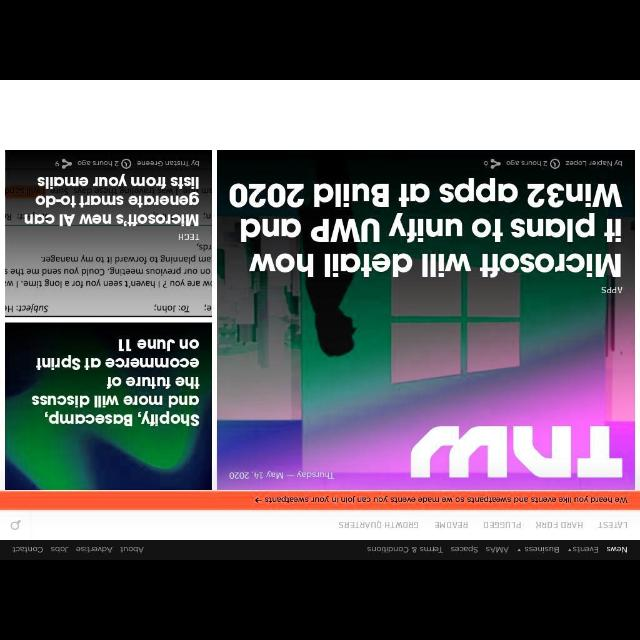button: (3, 512, 31, 538)
icon: (8, 520, 22, 532), (254, 496, 262, 504), (568, 548, 572, 552), (516, 548, 520, 552)
image: (216, 150, 634, 490), (4, 150, 212, 316), (6, 324, 212, 491)
spinner: (515, 542, 561, 556), (567, 544, 599, 556)
text: (264, 496, 630, 506), (338, 520, 420, 530), (366, 546, 444, 554), (482, 518, 522, 532), (594, 518, 628, 532), (536, 519, 582, 529), (434, 521, 470, 533), (74, 545, 112, 555), (12, 544, 44, 554), (485, 546, 511, 556), (450, 546, 478, 554), (573, 545, 599, 553), (118, 546, 144, 554), (524, 546, 558, 552), (51, 544, 69, 554), (606, 546, 628, 554)
toolbar: (2, 511, 640, 539), (1, 540, 639, 560)
